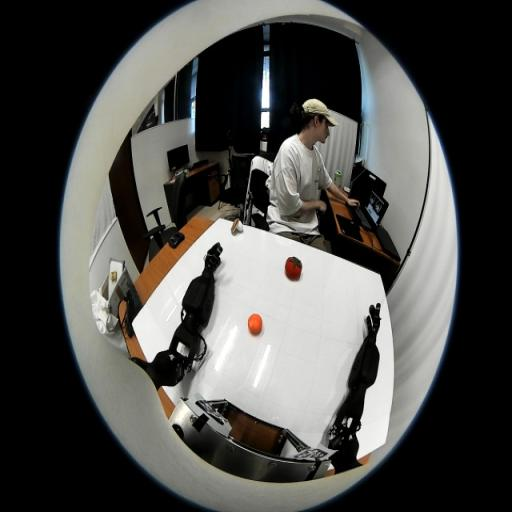LeftHand: (205, 257, 215, 271)
Mushroom: (232, 218, 244, 233)
Orange: (248, 314, 262, 334)
RightHand: (368, 323, 379, 336)
Tomato: (284, 257, 302, 279)
